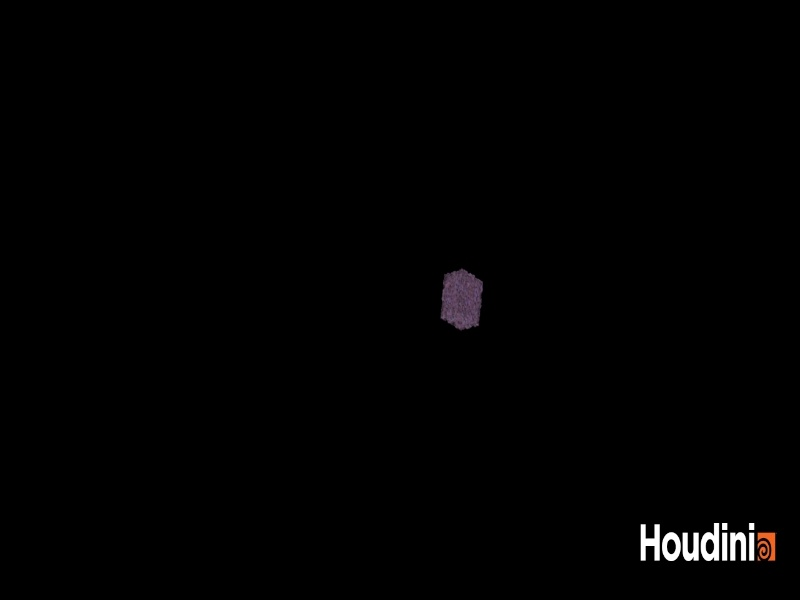waste: (436, 260, 494, 343)
